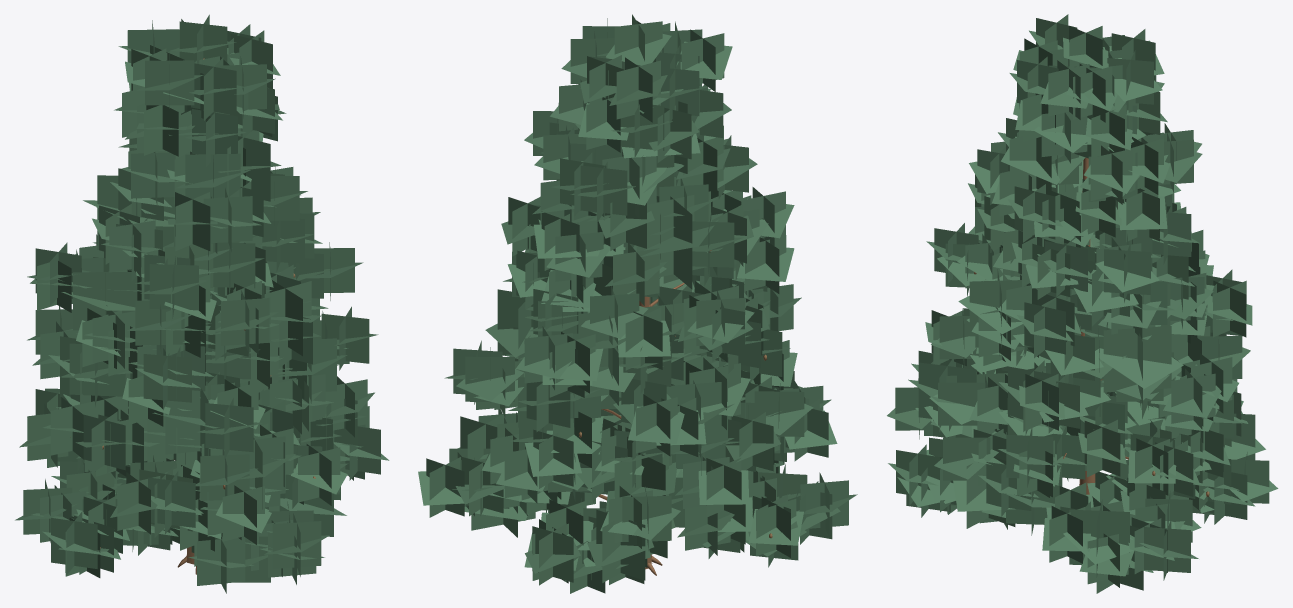
File: pin_1_f2_jeu.glb
3 renders of one model, left to right at view 1: azimuth 30°, elevation 25°; view 2: azimuth 150°, elevation 25°; view 3: azimuth 270°, elevation 25°, orthographic. The views are drawn at different scales.
Parts seen in each view (by area): view 1: Pin_T1_f2_Leger; view 2: Pin_T1_f2_Leger; view 3: Pin_T1_f2_Leger.
Boxes of the visible parts, <box> form: Pin_T1_f2_Leger: <box>15,14,389,593</box>; Pin_T1_f2_Leger: <box>418,14,857,593</box>; Pin_T1_f2_Leger: <box>887,14,1278,593</box>.
Bounding box in the file's own units: 5.27 × 7.55 × 5.17.
